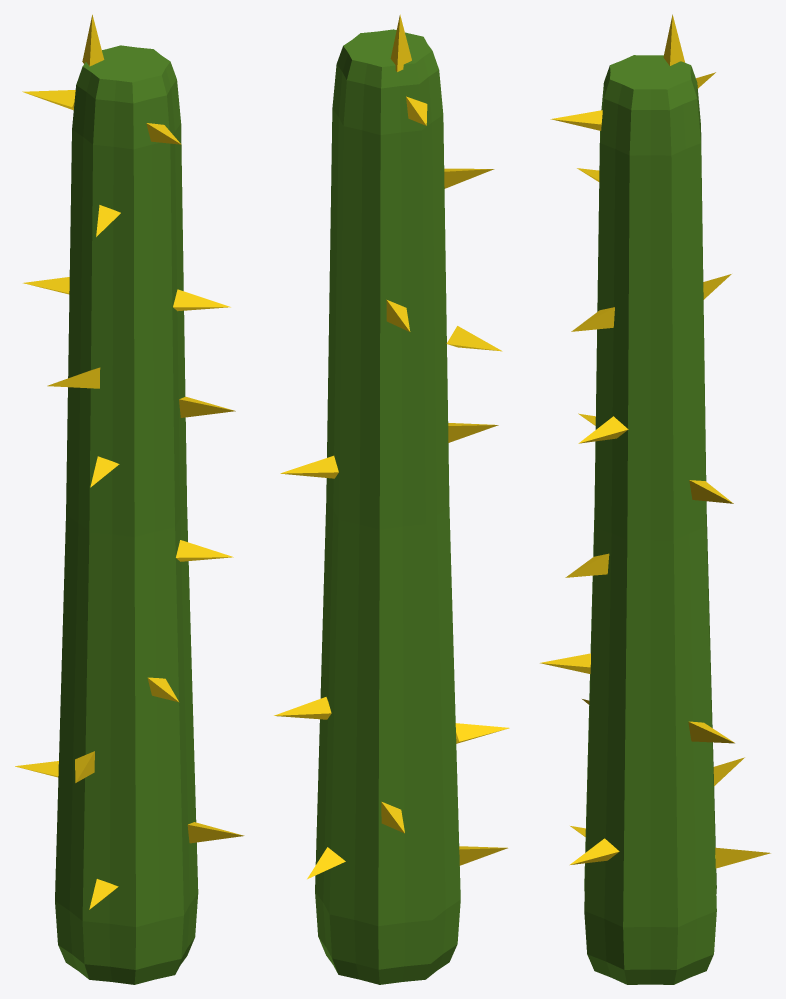
Rendered from Cactus_07_B.fbx.
3 views of the same model, side by side, from view 1: azimuth 30°, elevation 25°; view 2: azimuth 150°, elevation 25°; view 3: azimuth 270°, elevation 25° (orthographic). The views are drawn at different scales.
Parts seen in each view (by area): view 1: Cactus_07_B; view 2: Cactus_07_B; view 3: Cactus_07_B.
Part boxes in pixels (left/top/right/bottom): Cactus_07_B: left=15, top=14, right=244, bottom=984; Cactus_07_B: left=274, top=14, right=509, bottom=984; Cactus_07_B: left=540, top=14, right=770, bottom=984.
Bounding box in the file's own units: 51.74 × 268 × 60.37.
